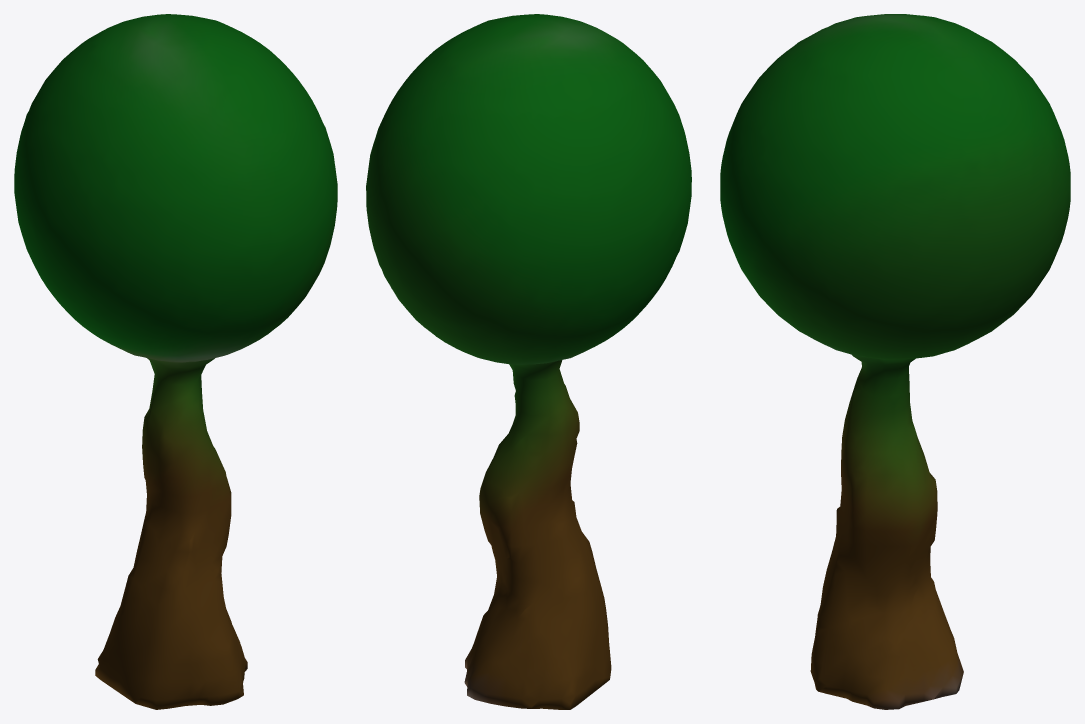
The model's file is Bubbled_3.glb.
3 views of the same model, side by side, from view 1: azimuth 30°, elevation 25°; view 2: azimuth 150°, elevation 25°; view 3: azimuth 270°, elevation 25° (orthographic).
Parts seen in each view (by area): view 1: Bubbled_3; view 2: Bubbled_3; view 3: Bubbled_3.
Part boxes in pixels (x1,y1,x2,y2): Bubbled_3: (14, 14, 337, 709); Bubbled_3: (366, 14, 691, 709); Bubbled_3: (720, 14, 1070, 709).
Size of the model in its own units: 1.81 by 4.14 by 2.01.
